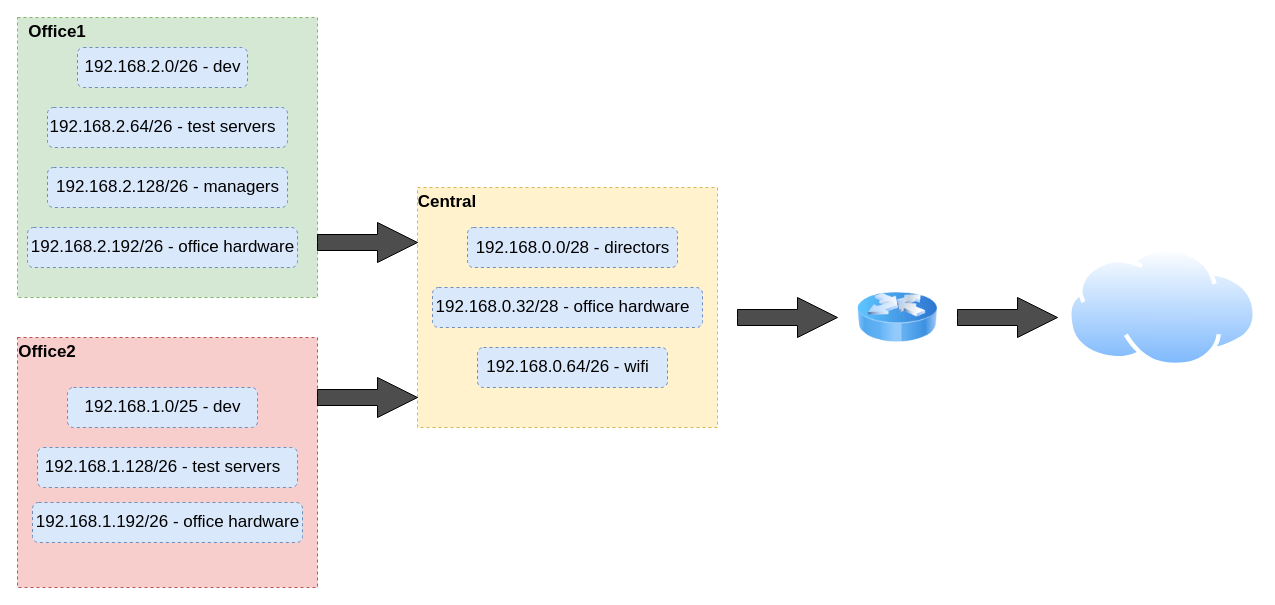
Some shapes in this 1275 by 605 pixel diagram are drawn without their labels. Here are the shapes that lost their labels. From the top down, the centre of each, then its label:
[897,317]: inetRouter
[1162,307]: Internet
